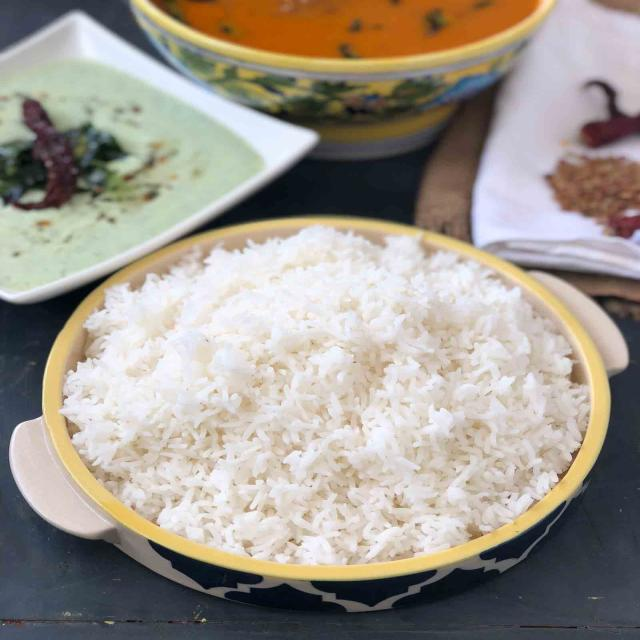rice: (71, 227, 585, 562)
